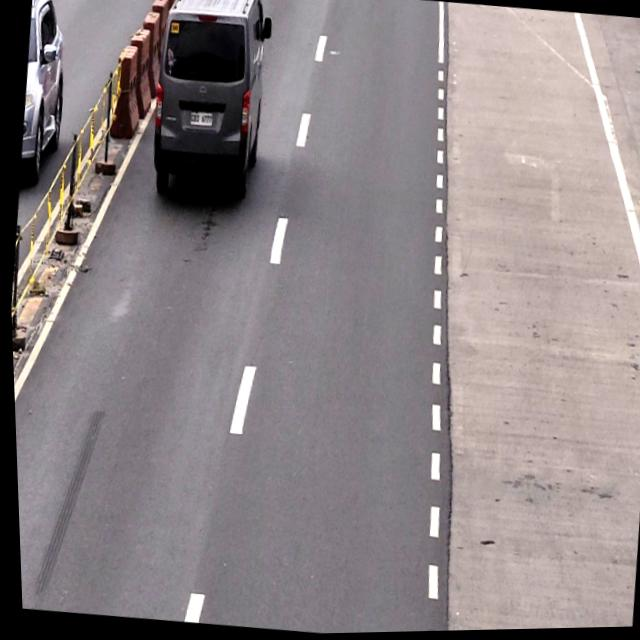Car: (141, 0, 277, 203)
License-Plate: (185, 108, 215, 132)
